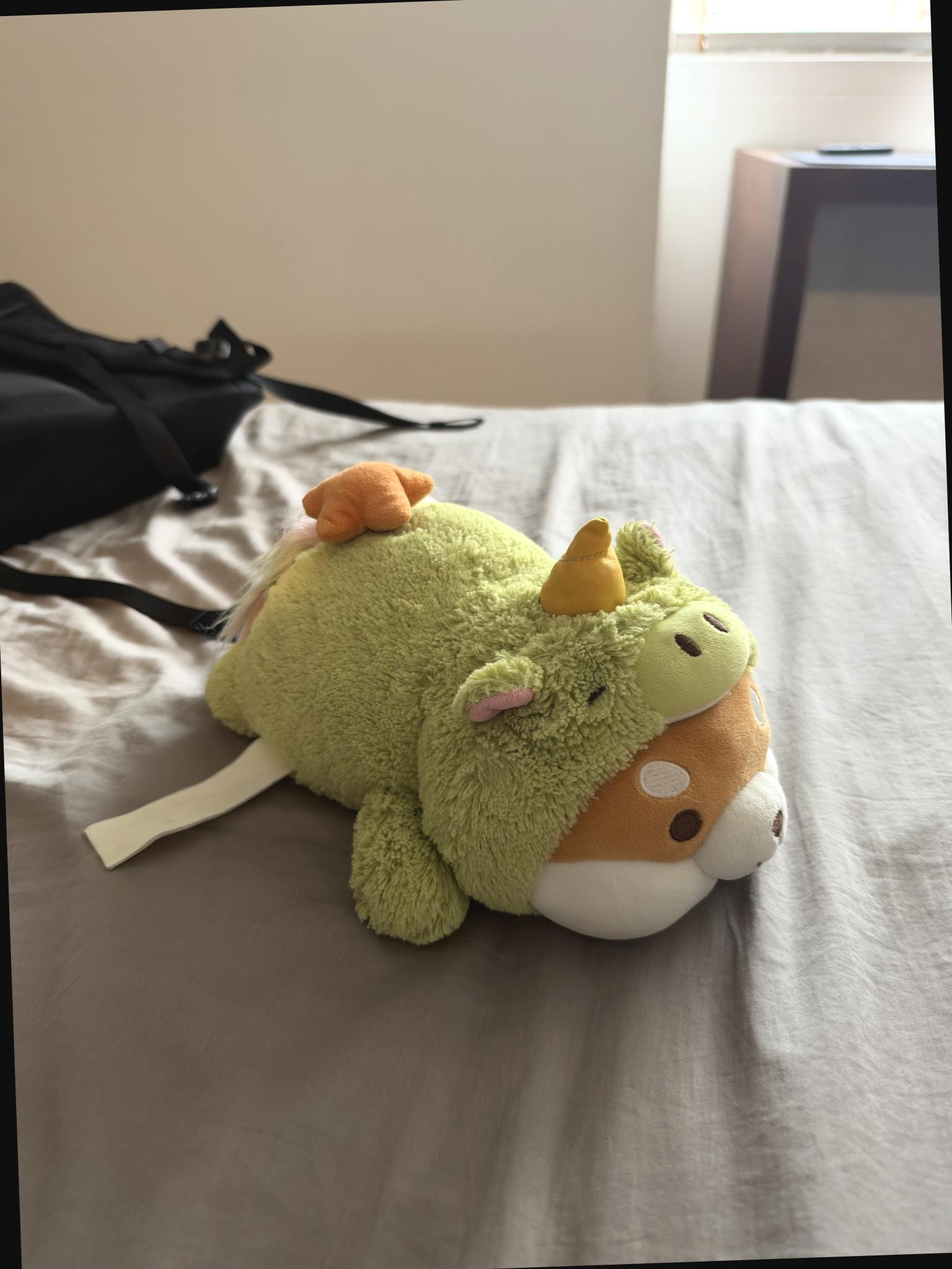peluche_martin: (192, 445, 791, 959)
